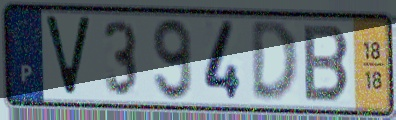3: (100, 19, 139, 98)
4: (200, 17, 247, 105)
9: (150, 16, 194, 104)
B: (301, 22, 353, 106)
D: (249, 19, 302, 107)
V: (40, 12, 95, 101)
